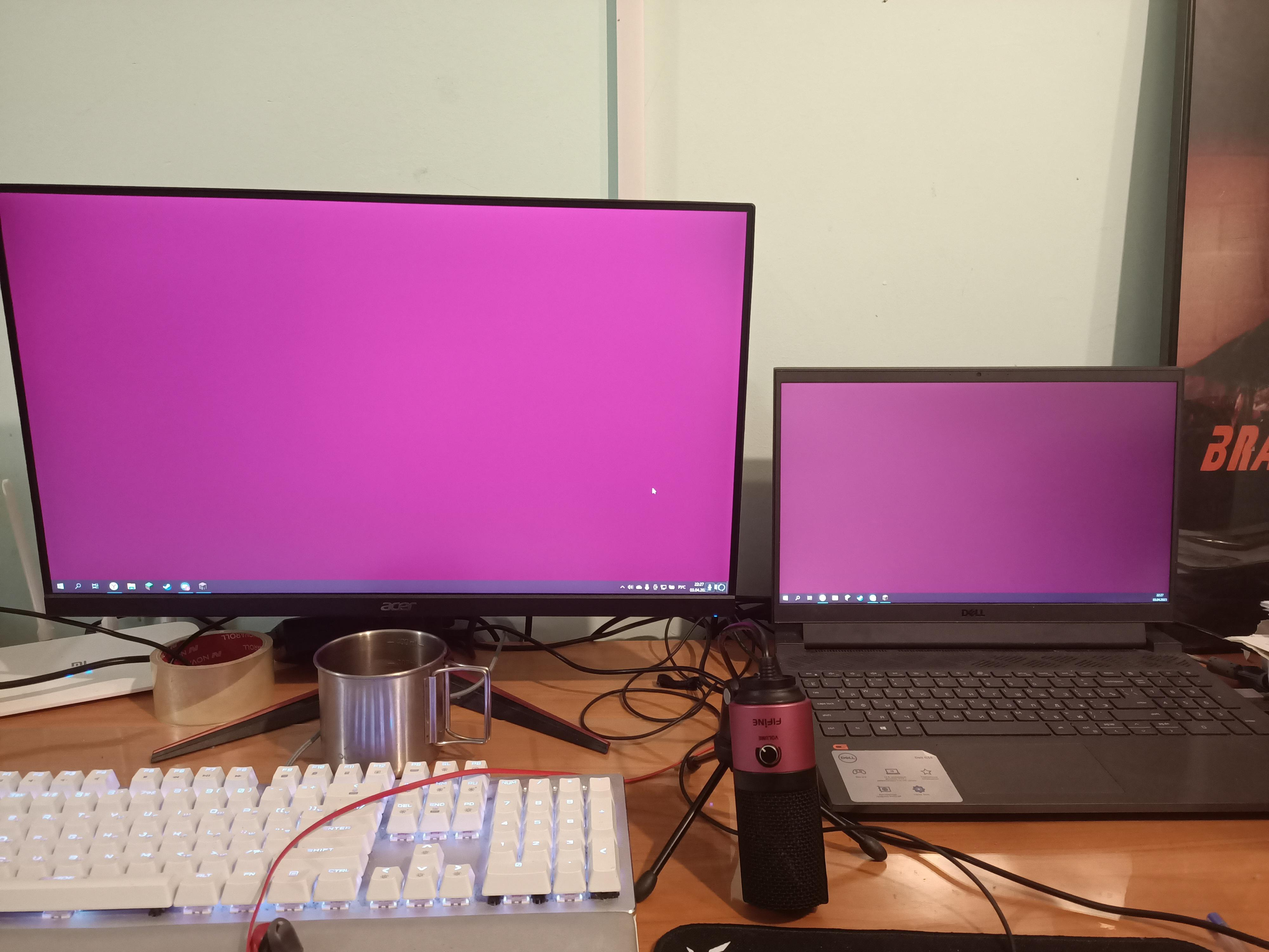monitor: (0, 181, 760, 620), (767, 367, 1188, 635)
